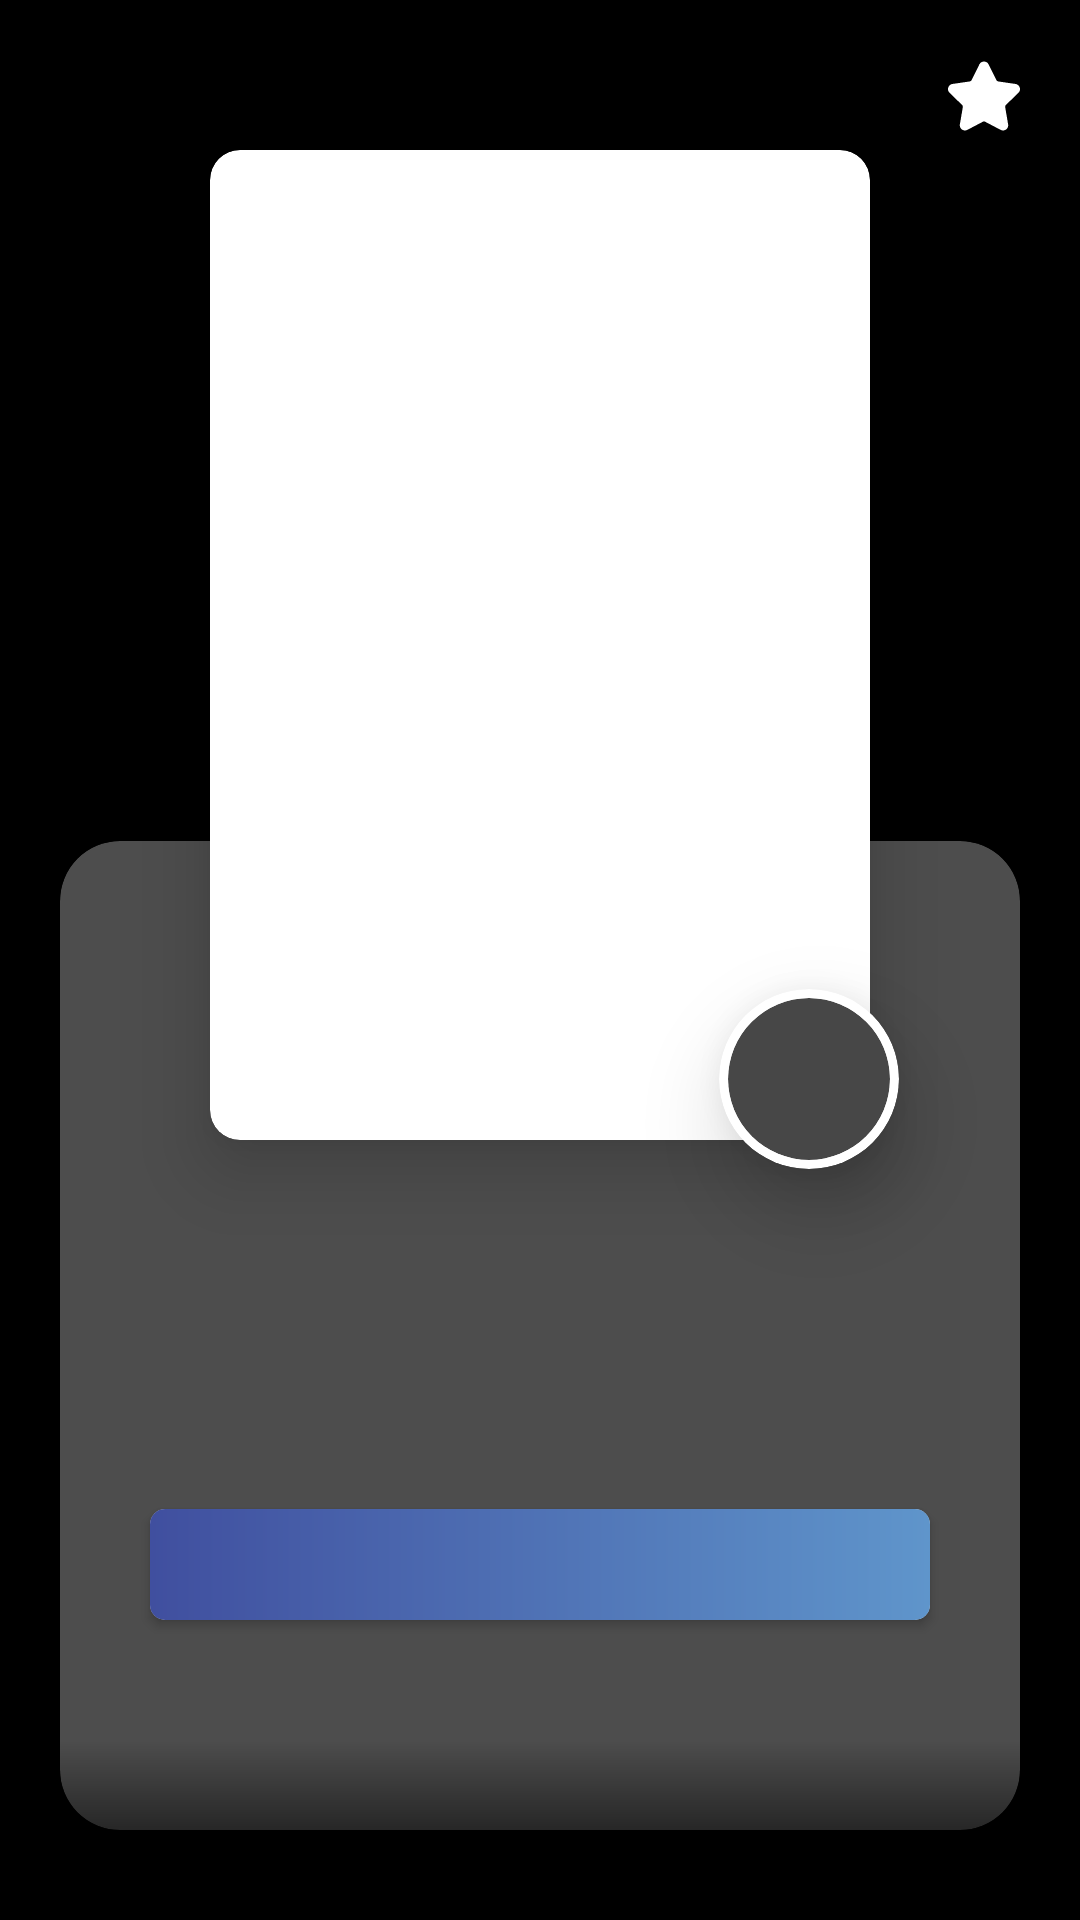

Icon click points for this 1080×1920 phone screenshot, format point (x, y):
star: point (984, 96)
